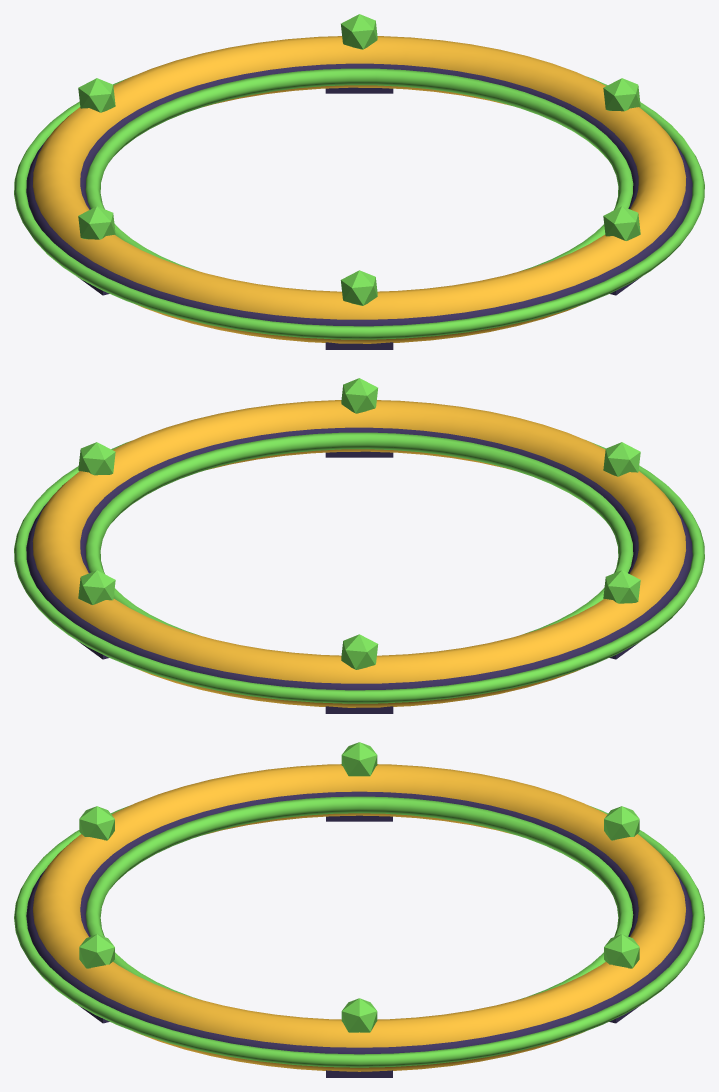
Rendered from P_BreachRing.fbx.
3 renders of one model, top to bottom at view 1: azimuth 30°, elevation 25°; view 2: azimuth 150°, elevation 25°; view 3: azimuth 270°, elevation 25°, orthographic.
Visible parts, largest first — view 1: P_BreachRing__Trim, P_BreachRing__Glow, P_BreachRing__Metal; view 2: P_BreachRing__Trim, P_BreachRing__Glow, P_BreachRing__Metal; view 3: P_BreachRing__Trim, P_BreachRing__Glow, P_BreachRing__Metal.
Part boxes in pixels (<box>): P_BreachRing__Trim: <box>33,36,686,343</box>; P_BreachRing__Glow: <box>14,14,704,339</box>; P_BreachRing__Metal: <box>26,63,692,349</box>; P_BreachRing__Trim: <box>32,400,685,707</box>; P_BreachRing__Glow: <box>14,378,704,703</box>; P_BreachRing__Metal: <box>26,427,692,713</box>; P_BreachRing__Trim: <box>33,764,685,1071</box>; P_BreachRing__Glow: <box>14,742,704,1067</box>; P_BreachRing__Metal: <box>26,791,692,1077</box>.
Size of the model in its own units: 16.42 by 1.95 by 16.42.
